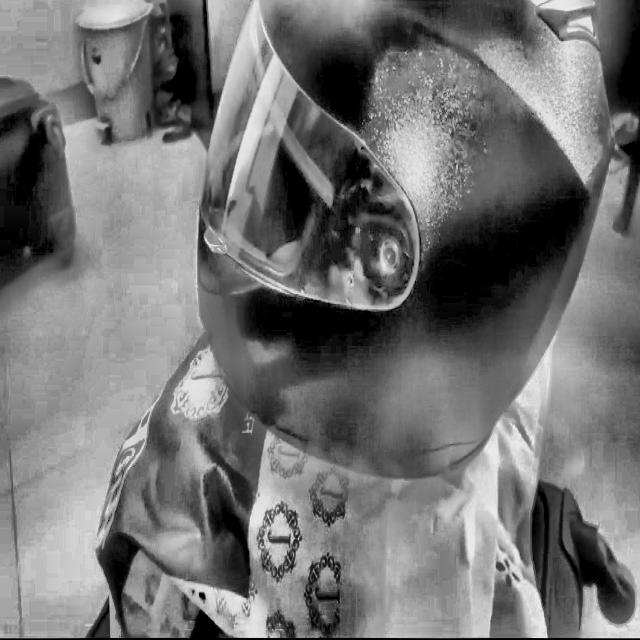Helmet: (194, 0, 613, 486)
